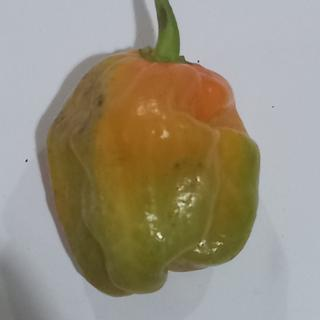Defect: (81, 74, 120, 128)
